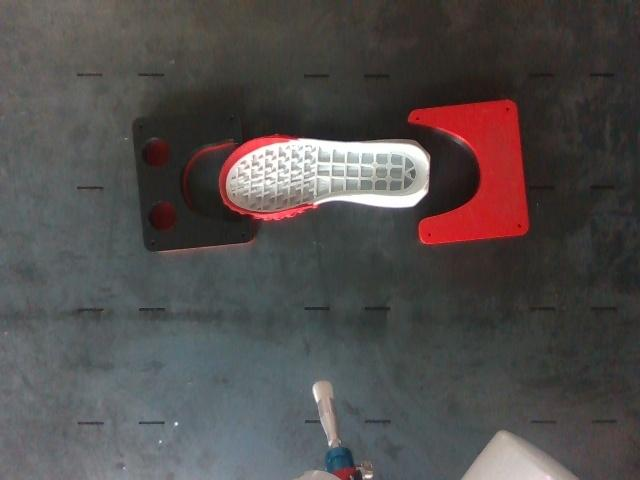shoes: (220, 138, 430, 215)
